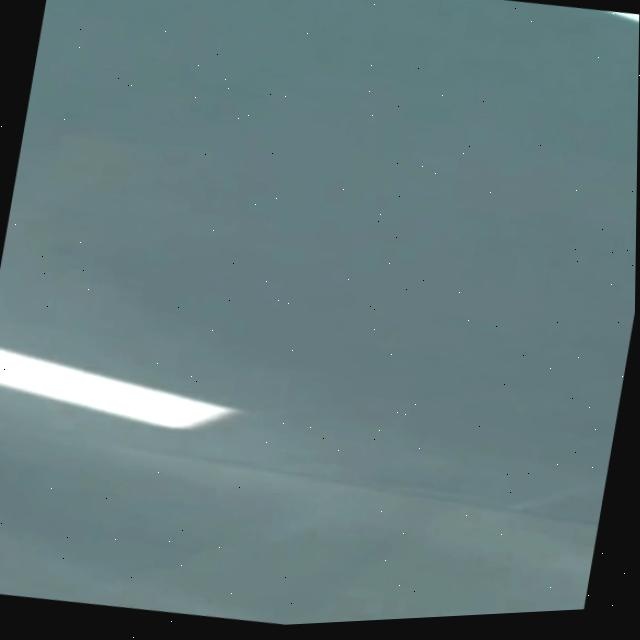center: (0, 345, 237, 427)
